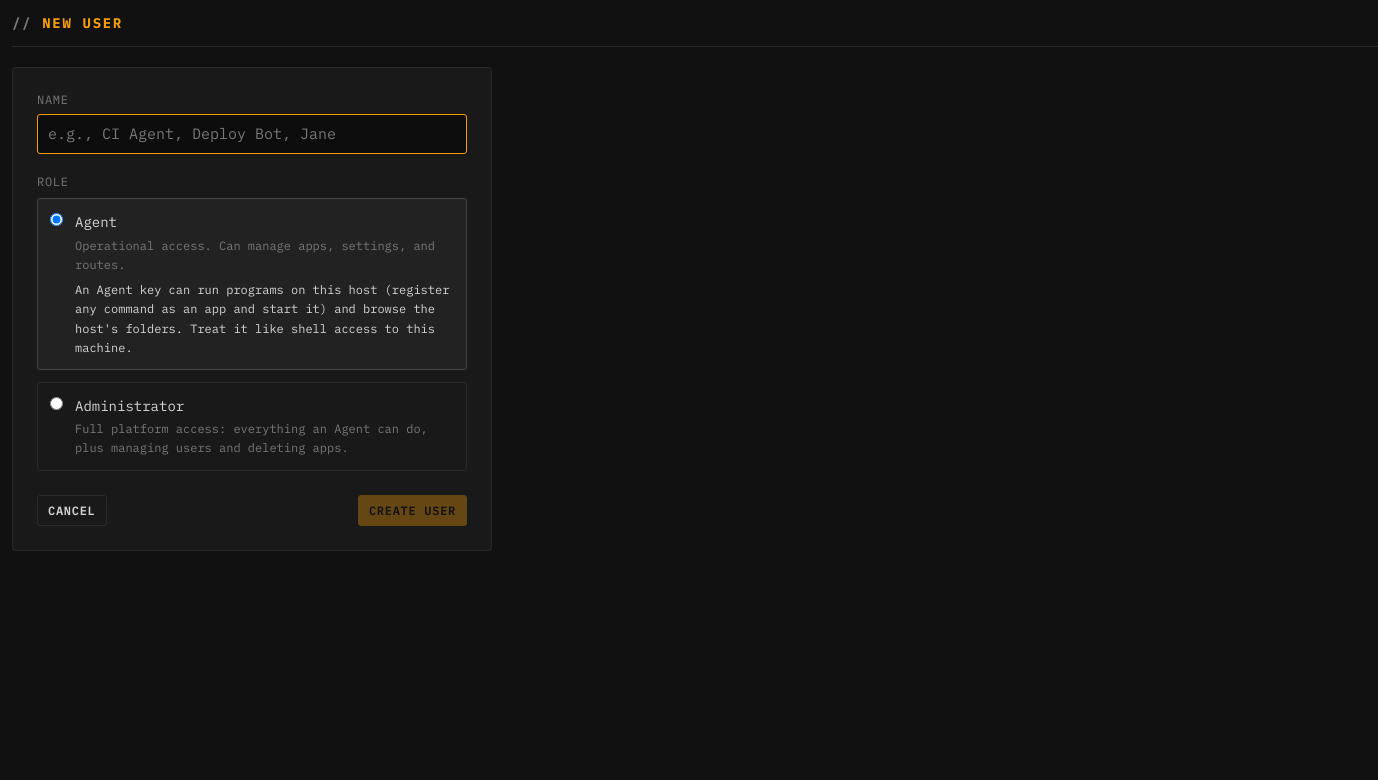
Scenario: UserCreatePage › can select Administrator role
Click the radio button labelled "Administrator" at (56, 403), box top-left (50, 397), bottom-right (63, 410)
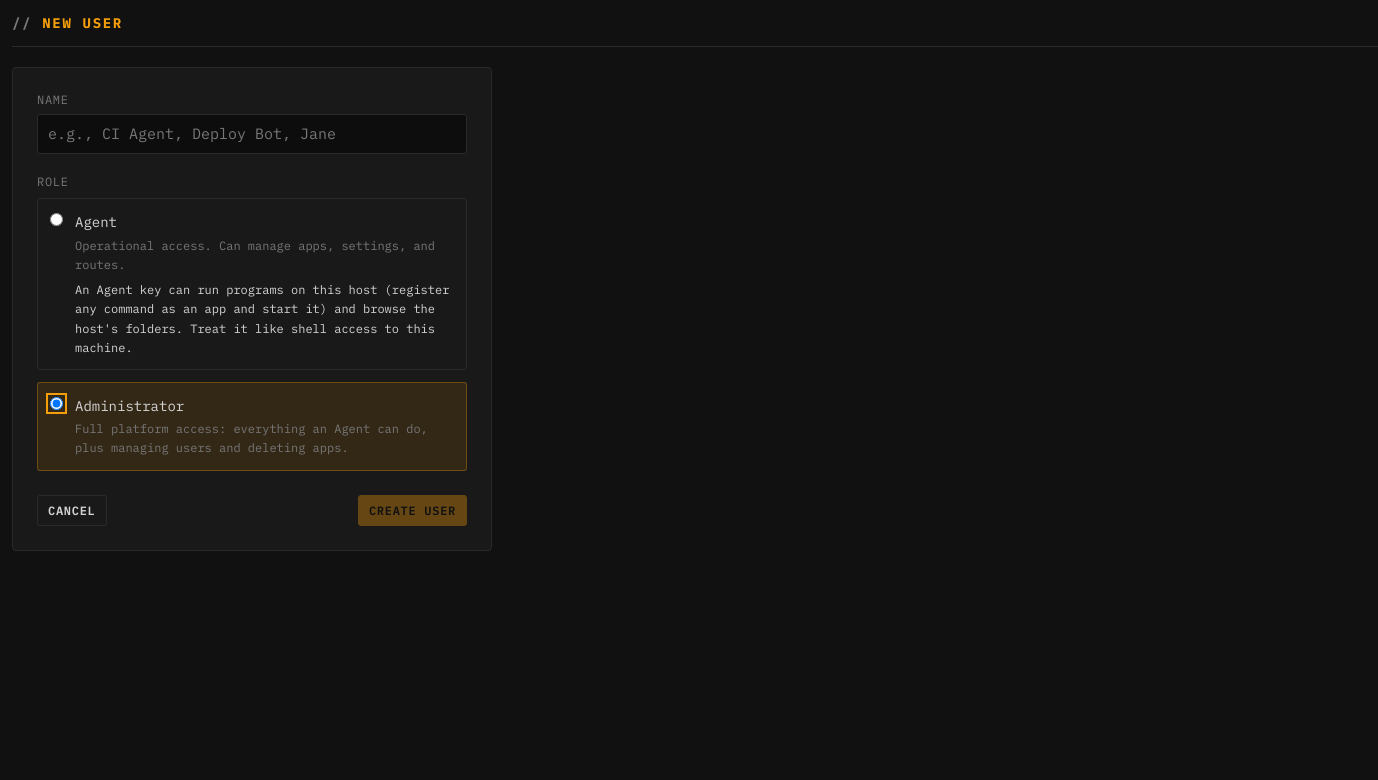
Expected: the radio button labelled "Administrator" is checked, top-left (50, 397), bottom-right (63, 410)
Expected: the radio button labelled "Agent" is not checked, top-left (50, 213), bottom-right (63, 226)
